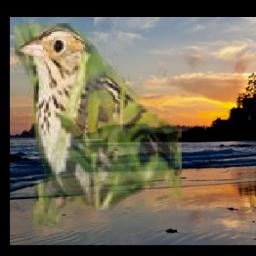Sparrow: (16, 24, 183, 227)
